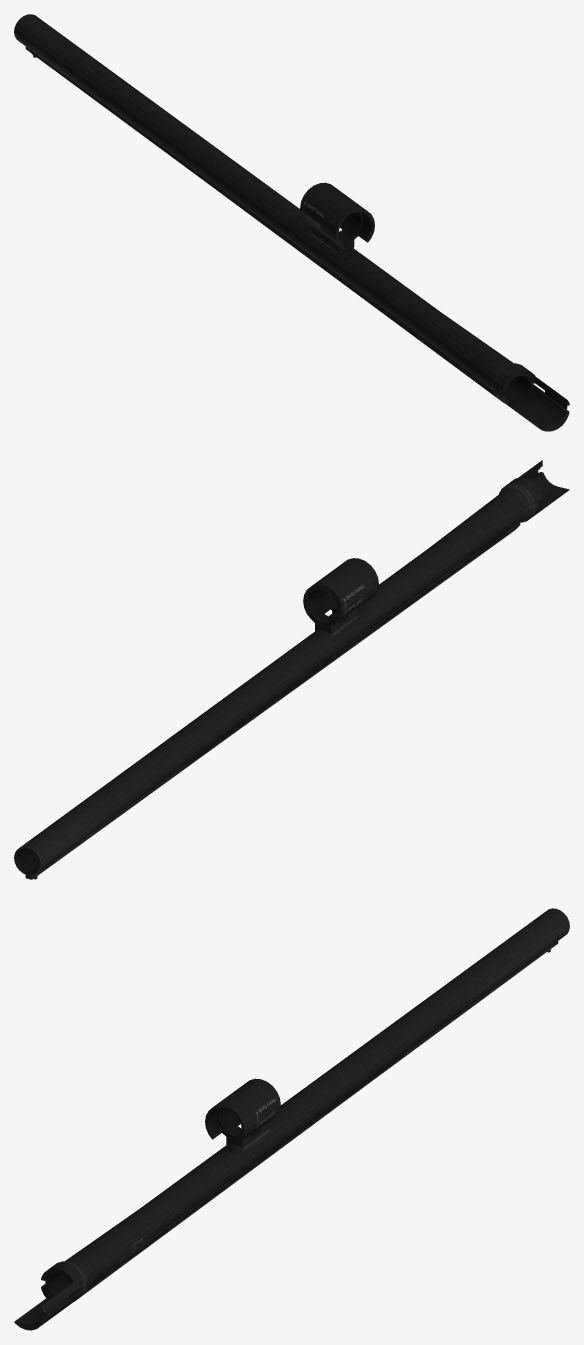
3 renders of one model, top to bottom at view 1: azimuth 30°, elevation 25°; view 2: azimuth 150°, elevation 25°; view 3: azimuth 330°, elevation 25°, orthographic.
Parts seen in each view (by area): view 1: TW_588200cf2459774414733d55_PZ_Import; view 2: TW_588200cf2459774414733d55_PZ_Import; view 3: TW_588200cf2459774414733d55_PZ_Import.
Part boxes in pixels (bbox=[...]): TW_588200cf2459774414733d55_PZ_Import: bbox=[14, 14, 569, 431]; TW_588200cf2459774414733d55_PZ_Import: bbox=[14, 460, 569, 879]; TW_588200cf2459774414733d55_PZ_Import: bbox=[14, 908, 569, 1330].
Size of the model in its own units: 0.0182 by 0.4239 by 0.0368.
Materials: 1 (1 with a texture image).
